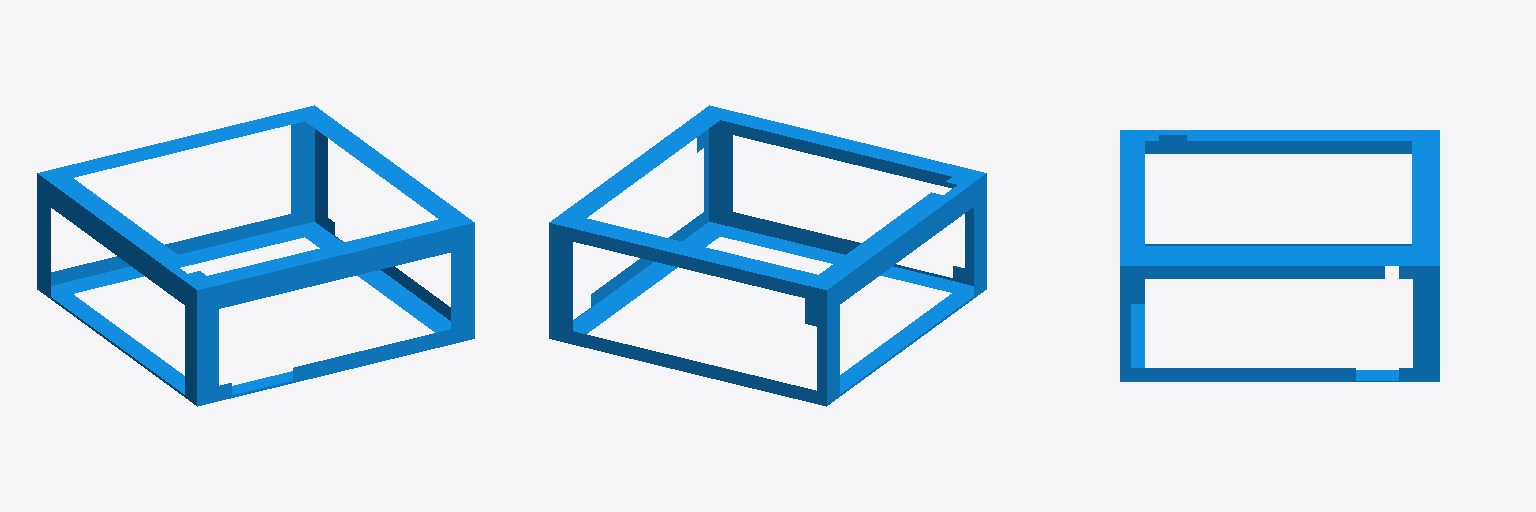
3 views of the same model, side by side, from view 1: azimuth 30°, elevation 25°; view 2: azimuth 150°, elevation 25°; view 3: azimuth 270°, elevation 25° (orthographic).
Parts seen in each view (by area): view 1: pCube1; view 2: pCube1; view 3: pCube1.
Part boxes in pixels (left/top/right/bottom): pCube1: left=37, top=105, right=474, bottom=406; pCube1: left=549, top=105, right=986, bottom=406; pCube1: left=1120, top=130, right=1439, bottom=381.
Size of the model in its own units: 1 by 0.4 by 1.
Materials: 1 (1 with a texture image).